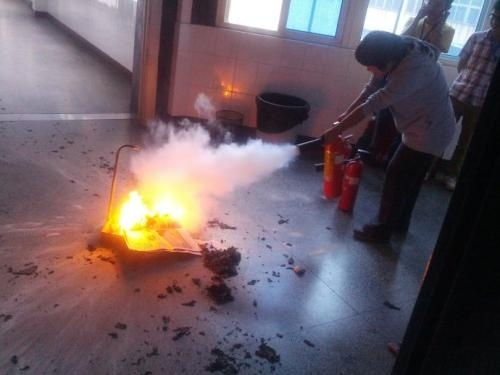fire: (102, 177, 201, 251)
